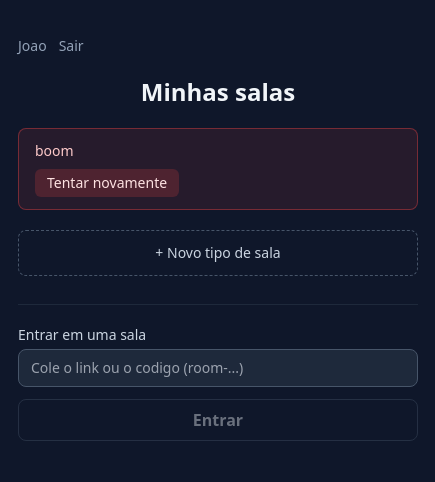
Test: RoomEntry › shows an error with retry, then recovers when retried
The width and height of the screenshot is (435, 482).
What coordinates should you click on to do the following:
click the button "Tentar novamente"
I would click on:
 (107, 182)
Its box is 35,168 -> 179,196.
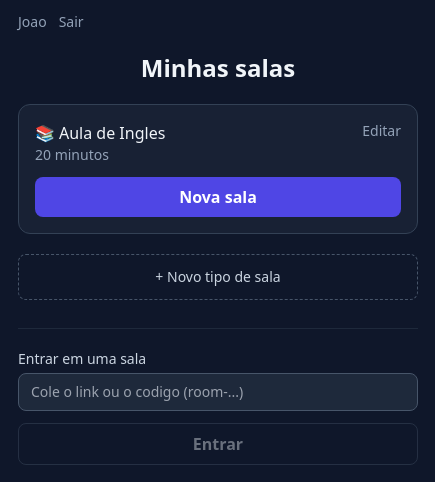
expect the text "Aula de Ingles" is shown: met, box 59,122 -> 165,144
